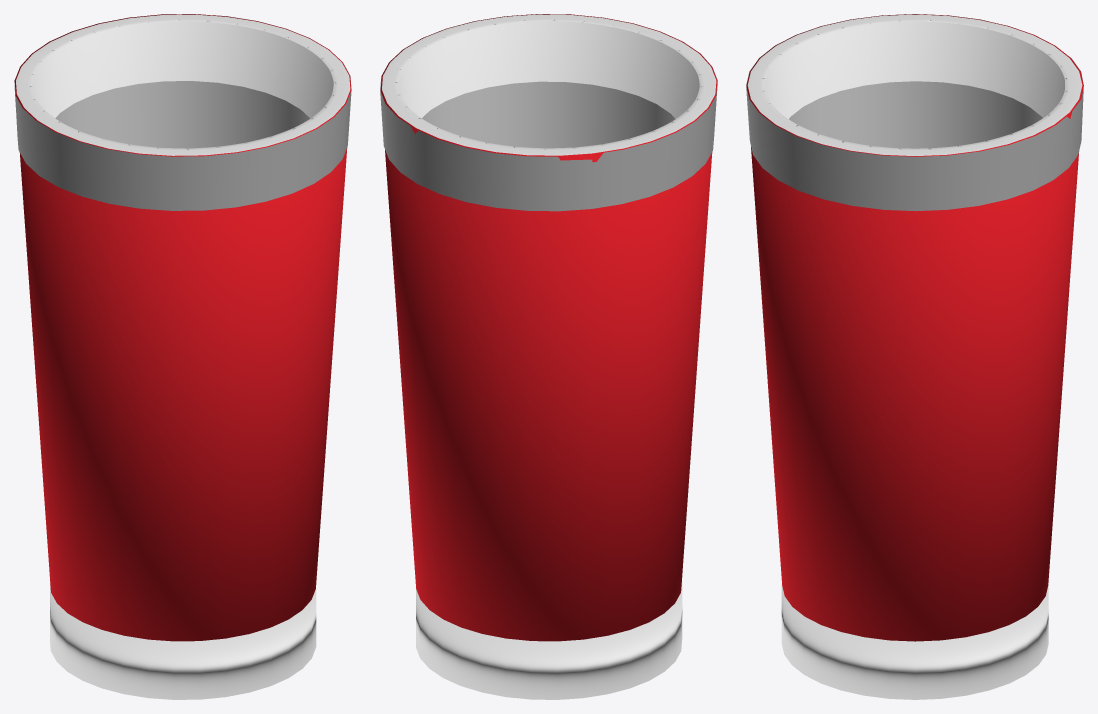
Rendered from copo vermelho.glb.
3 renders of one model, left to right at view 1: azimuth 30°, elevation 25°; view 2: azimuth 150°, elevation 25°; view 3: azimuth 270°, elevation 25°, orthographic.
Visible parts, largest first — view 1: Cylinder.003, Cylinder, Cylinder.001, Cylinder.002, Cylinder.004; view 2: Cylinder.003, Cylinder, Cylinder.001, Cylinder.002, Cylinder.004; view 3: Cylinder.003, Cylinder, Cylinder.001, Cylinder.002, Cylinder.004.
Part boxes in pixels (bbox=[...]): Cylinder.003: bbox=[14, 14, 351, 641]; Cylinder: bbox=[14, 15, 351, 210]; Cylinder.001: bbox=[50, 581, 316, 699]; Cylinder.002: bbox=[55, 81, 310, 148]; Cylinder.004: bbox=[16, 14, 350, 155]; Cylinder.003: bbox=[380, 14, 717, 641]; Cylinder: bbox=[380, 33, 717, 211]; Cylinder.001: bbox=[416, 582, 682, 699]; Cylinder.002: bbox=[421, 81, 675, 148]; Cylinder.004: bbox=[382, 14, 716, 155]; Cylinder.003: bbox=[746, 14, 1083, 641]; Cylinder: bbox=[746, 14, 1083, 211]; Cylinder.001: bbox=[781, 584, 1048, 699]; Cylinder.002: bbox=[789, 81, 1042, 148]; Cylinder.004: bbox=[747, 14, 1082, 155].
Bounding box in the file's own units: 8.18 × 14.91 × 8.17.
